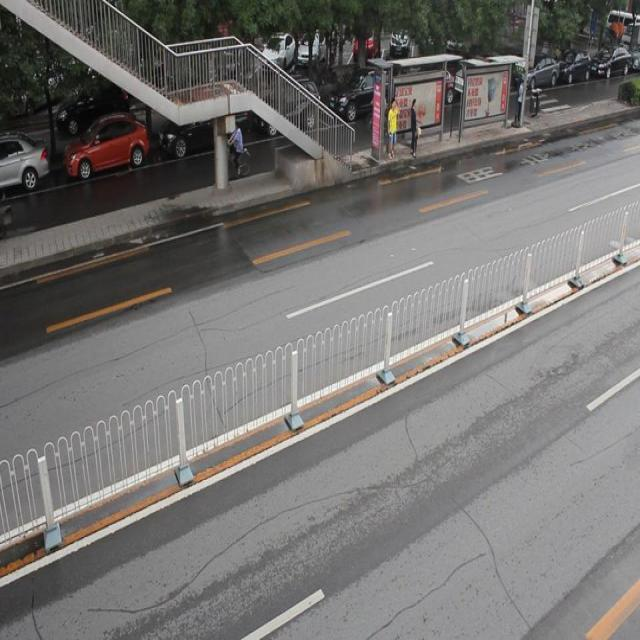car: (65, 113, 149, 175), (158, 100, 247, 158), (252, 82, 322, 138), (327, 72, 397, 125), (1, 128, 48, 191)
